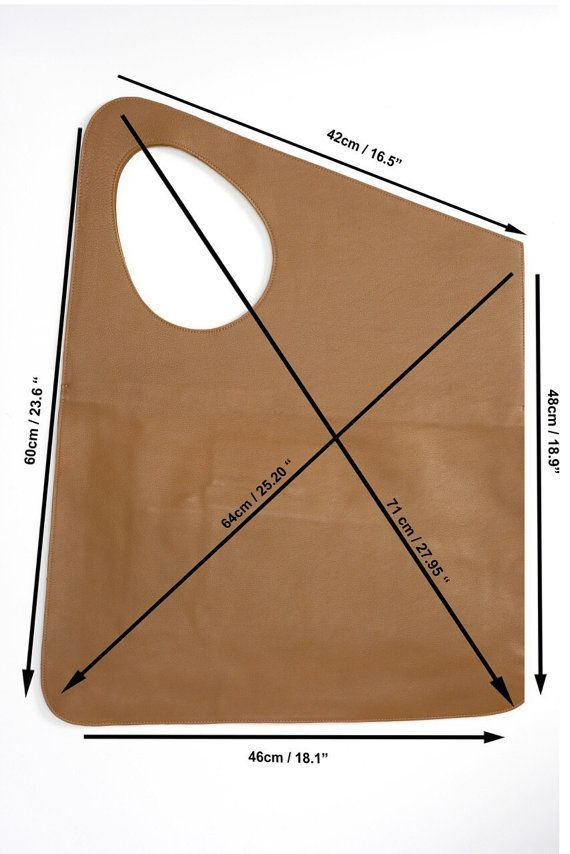cuero: (40, 96, 524, 727)
